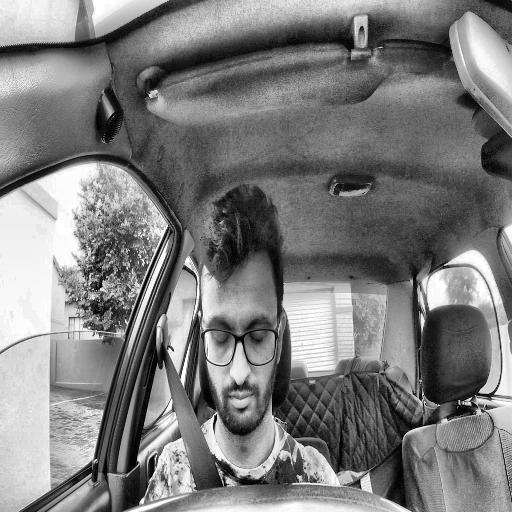drowsy: (198, 186, 286, 436)
